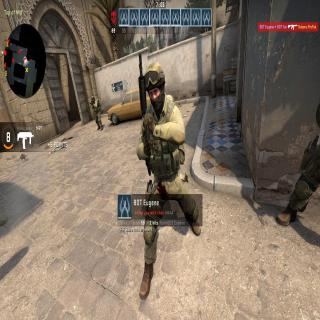CT-Body: (133, 50, 203, 296), (90, 95, 104, 131)
CT-Head: (146, 60, 166, 103), (90, 96, 95, 101)
